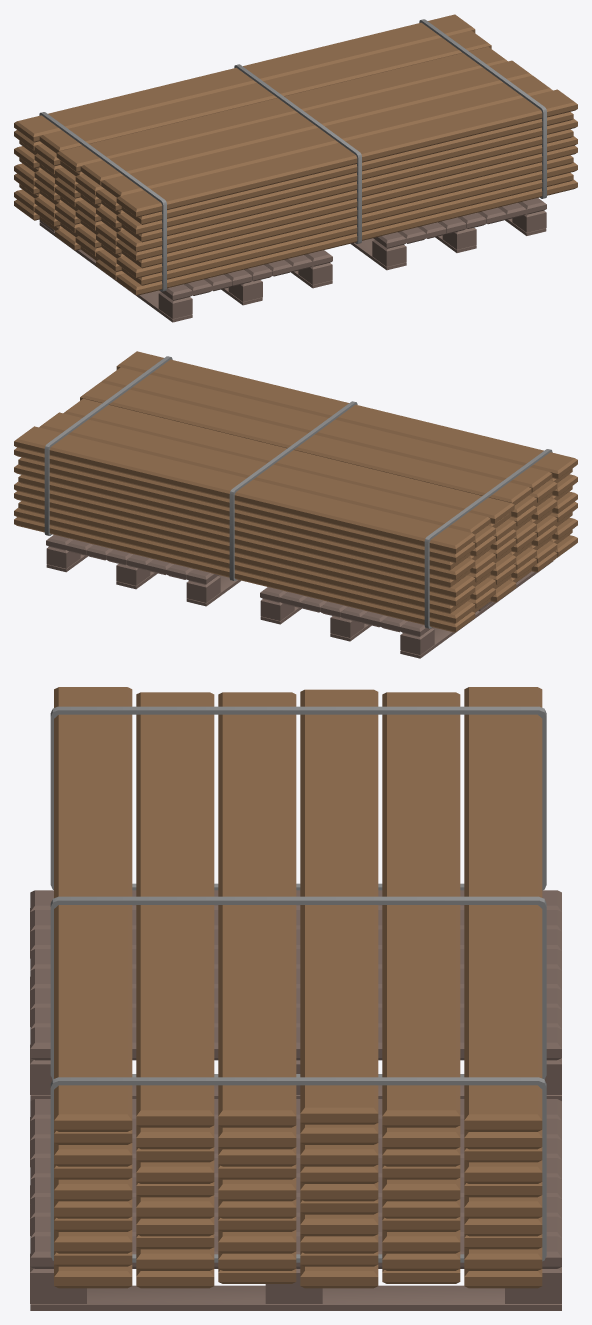
The model's file is props_02.glb.
3 renders of one model, top to bottom at view 1: azimuth 30°, elevation 25°; view 2: azimuth 150°, elevation 25°; view 3: azimuth 270°, elevation 25°, orthographic. The views are drawn at different scales.
Parts seen in each view (by area): view 1: props_02; view 2: props_02; view 3: props_02.
Boxes of the visible parts, x1,y1,x2,y2 form: props_02: (14,14,577,322); props_02: (14,351,577,658); props_02: (30,687,561,1310).
Bounding box in the file's own units: 5.47 × 1.4 × 2.85.
Materials: 1 (1 with a texture image).
